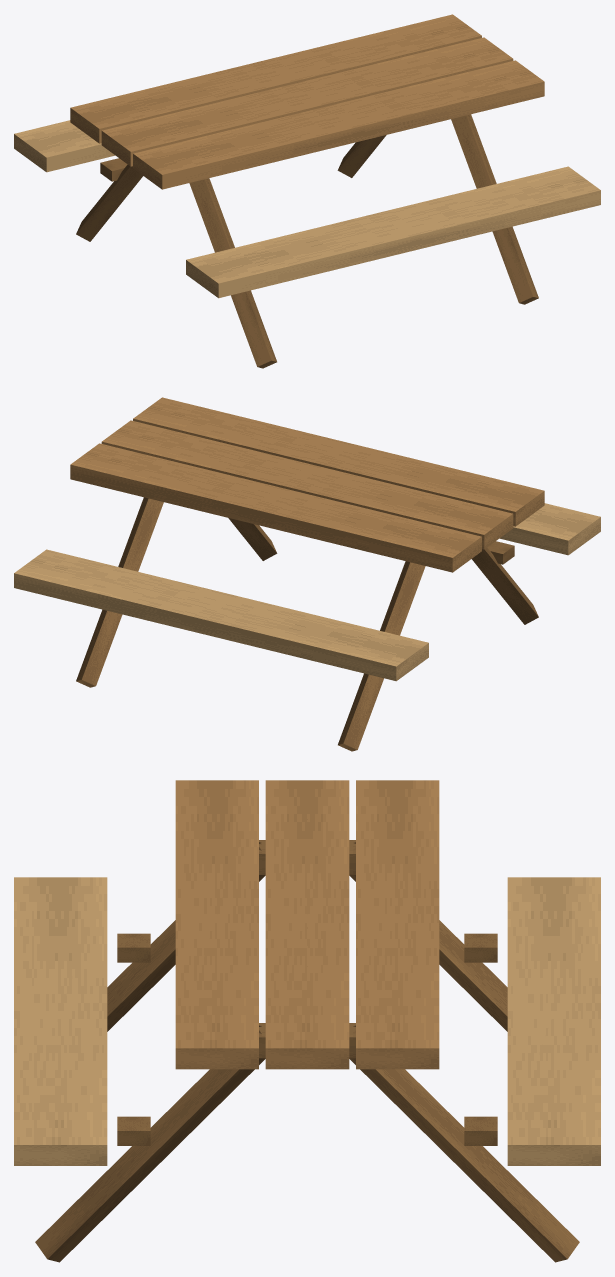
Rendered from prop_picnic_table.glb.
3 renders of one model, top to bottom at view 1: azimuth 30°, elevation 25°; view 2: azimuth 150°, elevation 25°; view 3: azimuth 270°, elevation 25°, orthographic. The views are drawn at different scales.
Parts seen in each view (by area): view 1: prop_picnic_table; view 2: prop_picnic_table; view 3: prop_picnic_table.
Part boxes in pixels (left/top/right/bottom): prop_picnic_table: left=14, top=14, right=600, bottom=368; prop_picnic_table: left=14, top=397, right=600, bottom=751; prop_picnic_table: left=14, top=780, right=600, bottom=1262.
Size of the model in its own units: 1.9 by 0.8488 by 1.76.
1 material, 1 textured.
